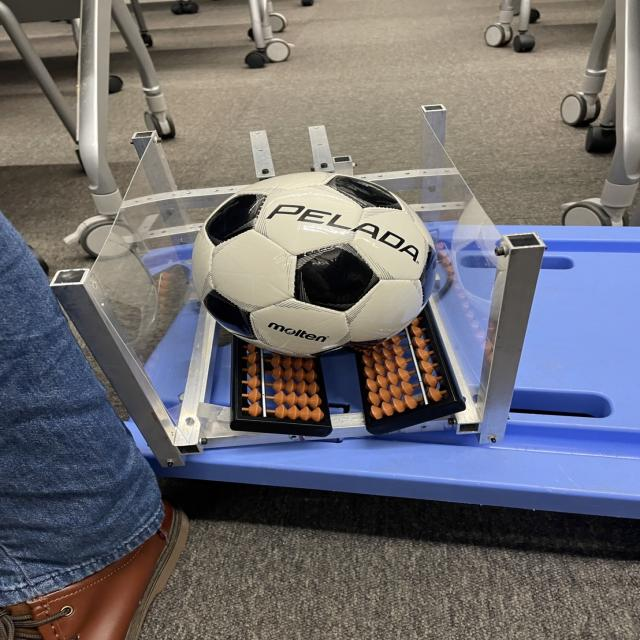ball: (193, 170, 439, 358)
